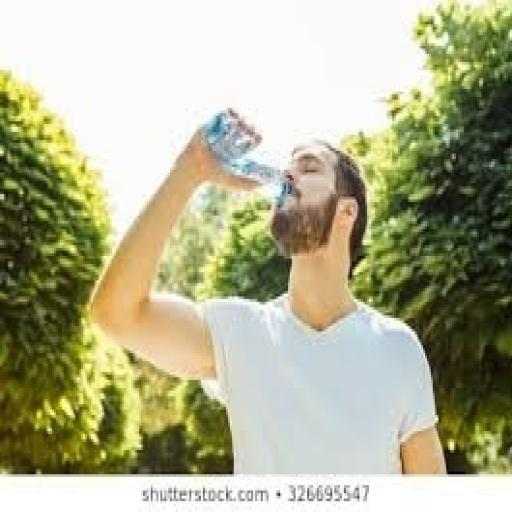drinking: (199, 105, 294, 208)
